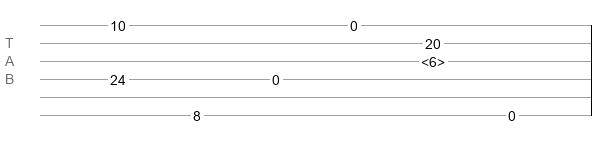0: (272, 72, 280, 82), (350, 18, 358, 28), (508, 108, 516, 118)
10: (110, 18, 126, 28)
20: (425, 36, 441, 46)
24: (110, 72, 126, 82)
8: (193, 108, 201, 118)
harmonic: (421, 54, 445, 64)
